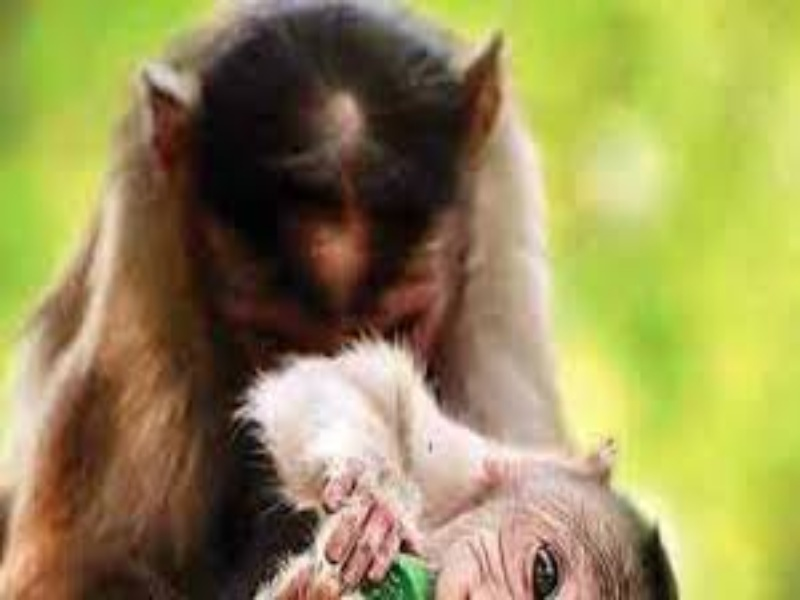monkey: (31, 9, 692, 596)
